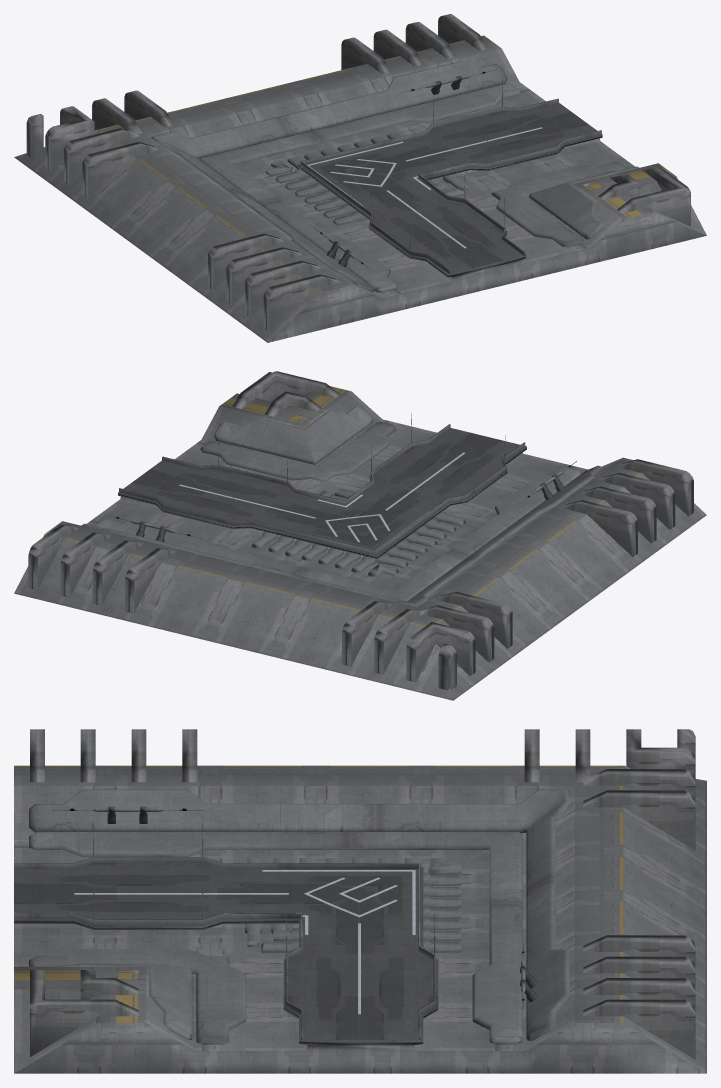
File: CityBlock015.fbx
3 views of the same model, one above another, from view 1: azimuth 30°, elevation 25°; view 2: azimuth 150°, elevation 25°; view 3: azimuth 270°, elevation 25° (orthographic). The views are drawn at different scales.
Parts seen in each view (by area): view 1: SMCGBlock55_4897.Shape; view 2: SMCGBlock55_4897.Shape; view 3: SMCGBlock55_4897.Shape.
Boxes of the visible parts, <box> form: SMCGBlock55_4897.Shape: <box>14,14,706,342</box>; SMCGBlock55_4897.Shape: <box>14,371,706,700</box>; SMCGBlock55_4897.Shape: <box>14,729,706,1073</box>.
Size of the model in its own units: 727 by 93.54 by 727.
